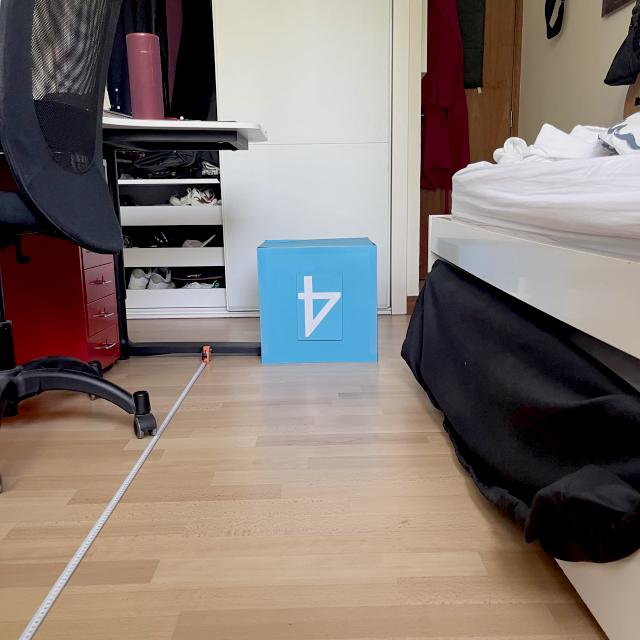box: (253, 233, 381, 366)
